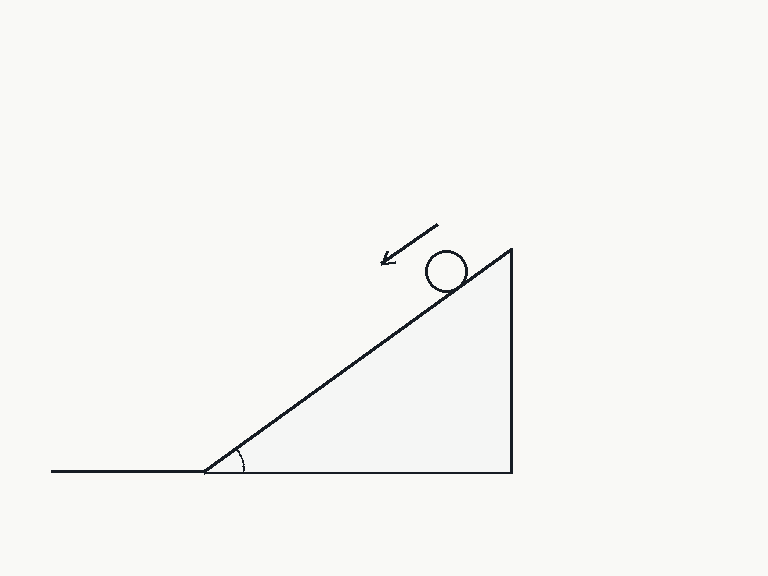ball: (423, 248, 469, 294)
ramp: (202, 247, 513, 474)
